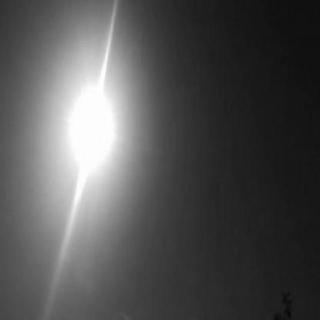other: (66, 78, 112, 180)
